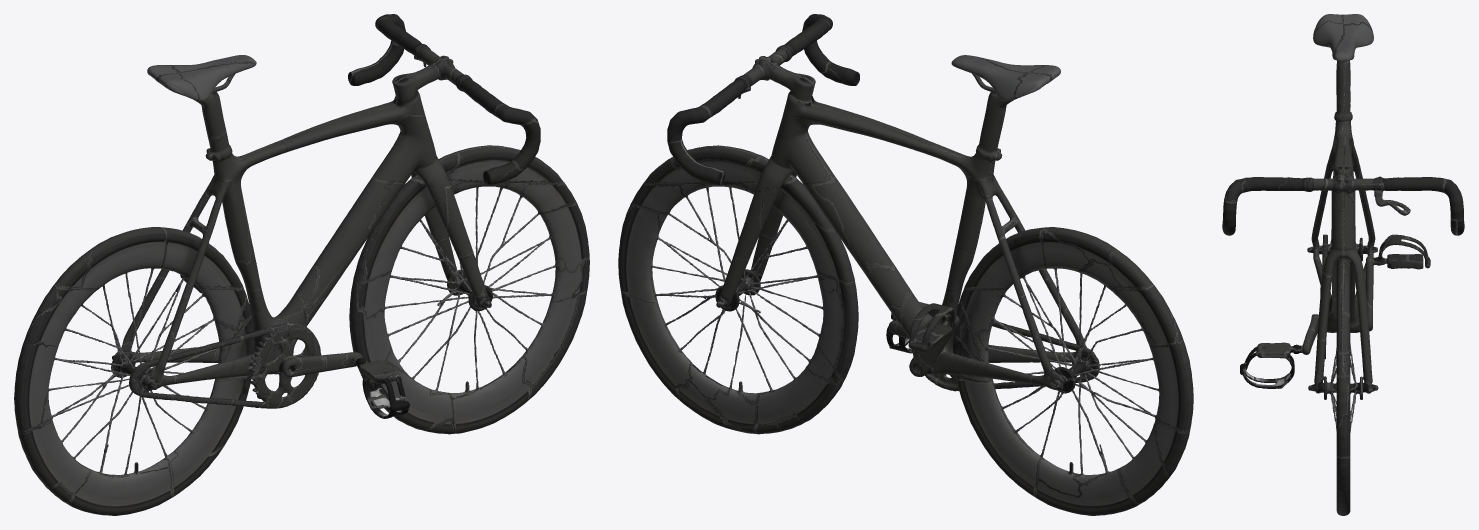
File: desk-lamp.glb
The picture shows the model from 3 angles, left to right: view 1: azimuth 30°, elevation 25°; view 2: azimuth 150°, elevation 25°; view 3: azimuth 270°, elevation 25°; orthographic projection. The views are drawn at different scales.
Parts seen in each view (by area): view 1: tripo_node_0cbb5d49-1ffa-44b3-bff9-c607112e15bd; view 2: tripo_node_0cbb5d49-1ffa-44b3-bff9-c607112e15bd; view 3: tripo_node_0cbb5d49-1ffa-44b3-bff9-c607112e15bd.
Boxes of the visible parts, box(x1,y1,x2,y2) form: tripo_node_0cbb5d49-1ffa-44b3-bff9-c607112e15bd: box(14, 14, 589, 515); tripo_node_0cbb5d49-1ffa-44b3-bff9-c607112e15bd: box(618, 14, 1193, 515); tripo_node_0cbb5d49-1ffa-44b3-bff9-c607112e15bd: box(1222, 14, 1464, 515).
Bounding box in the file's own units: 1.6 × 1.15 × 0.693.
Materials: 1 (1 with a texture image).
